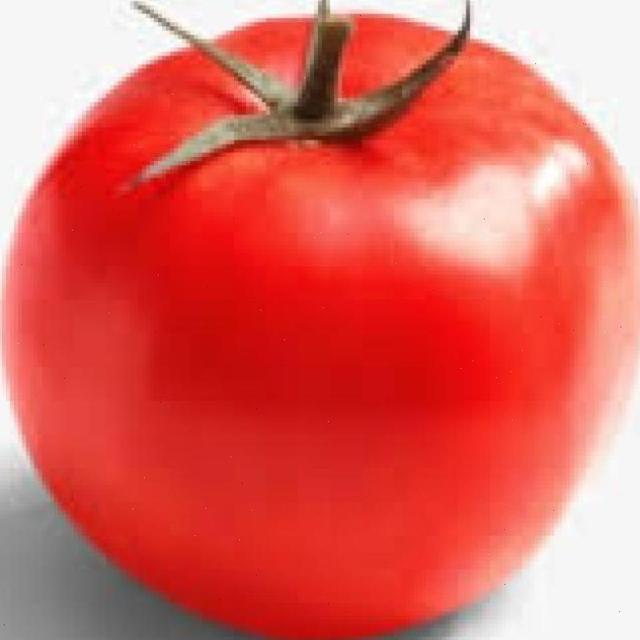Healthy Fruit: (0, 11, 411, 427)
